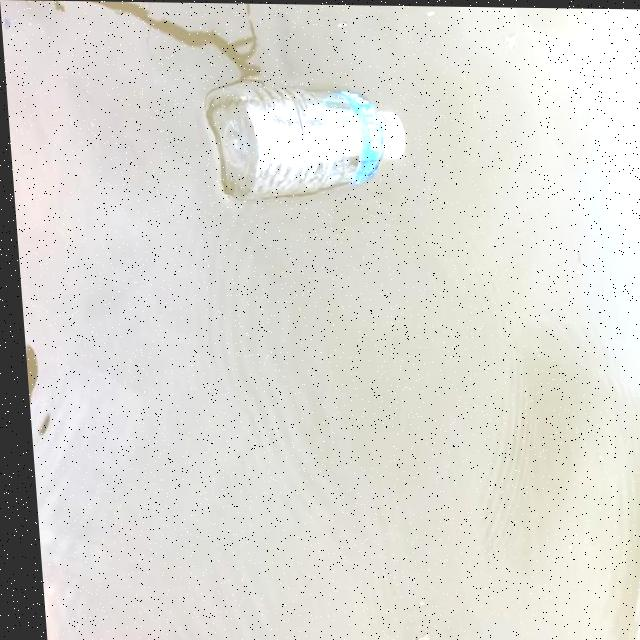waterbottle: (176, 76, 442, 208)
